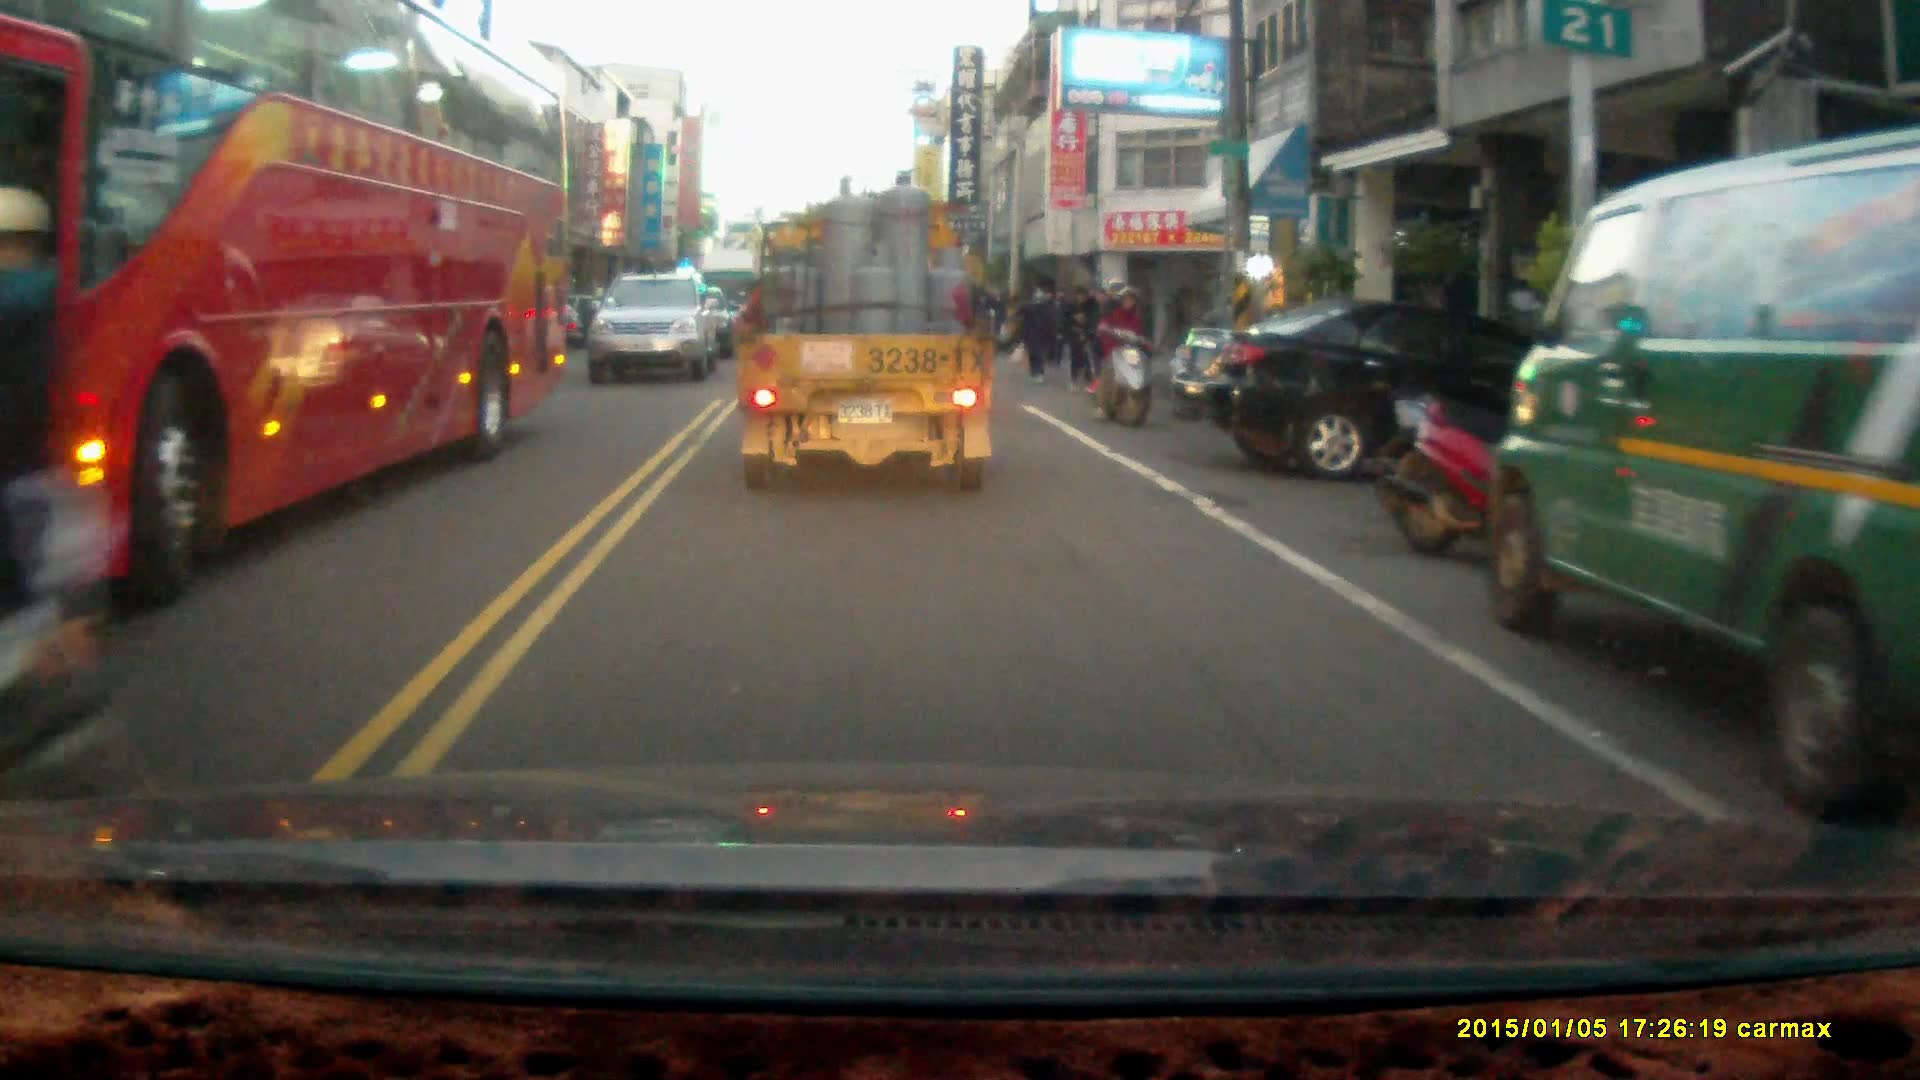pedestrian: (1060, 284, 1099, 394), (1020, 283, 1057, 375)
rider: (0, 180, 133, 844), (1090, 273, 1155, 429)
vehicle: (1, 7, 580, 643), (1483, 129, 1920, 823), (734, 165, 1001, 496), (1173, 301, 1603, 482), (592, 272, 721, 384)
